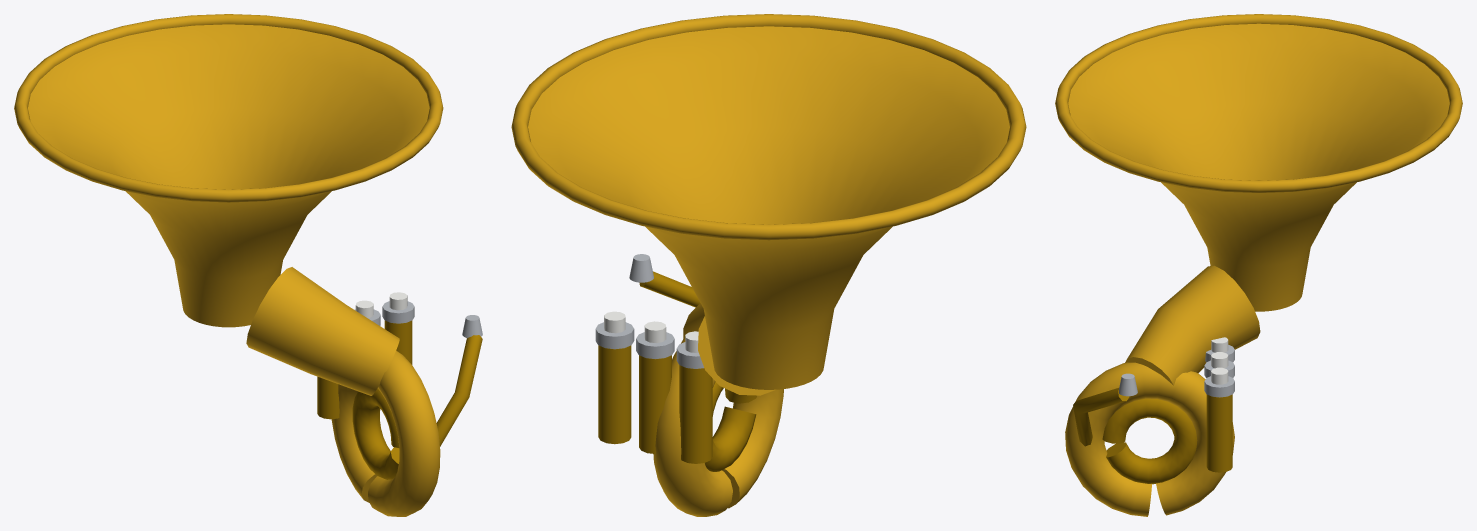
Rendered from tuba.fbx.
The picture shows the model from 3 angles, left to right: view 1: azimuth 30°, elevation 25°; view 2: azimuth 150°, elevation 25°; view 3: azimuth 270°, elevation 25°; orthographic projection. The views are drawn at different scales.
Visible parts, largest first — view 1: Tuba; view 2: Tuba; view 3: Tuba.
Boxes of the visible parts, x1,y1,x2,y2 form: Tuba: [14, 14, 482, 516]; Tuba: [511, 14, 1026, 516]; Tuba: [1055, 14, 1462, 516].
Size of the model in its own units: 1.87 by 1.88 by 1.87.
